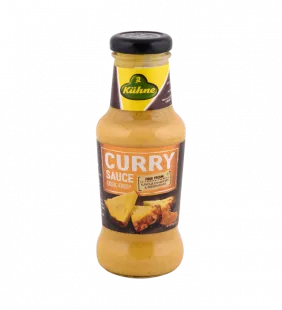KÜHNE: (84, 20, 196, 284)
